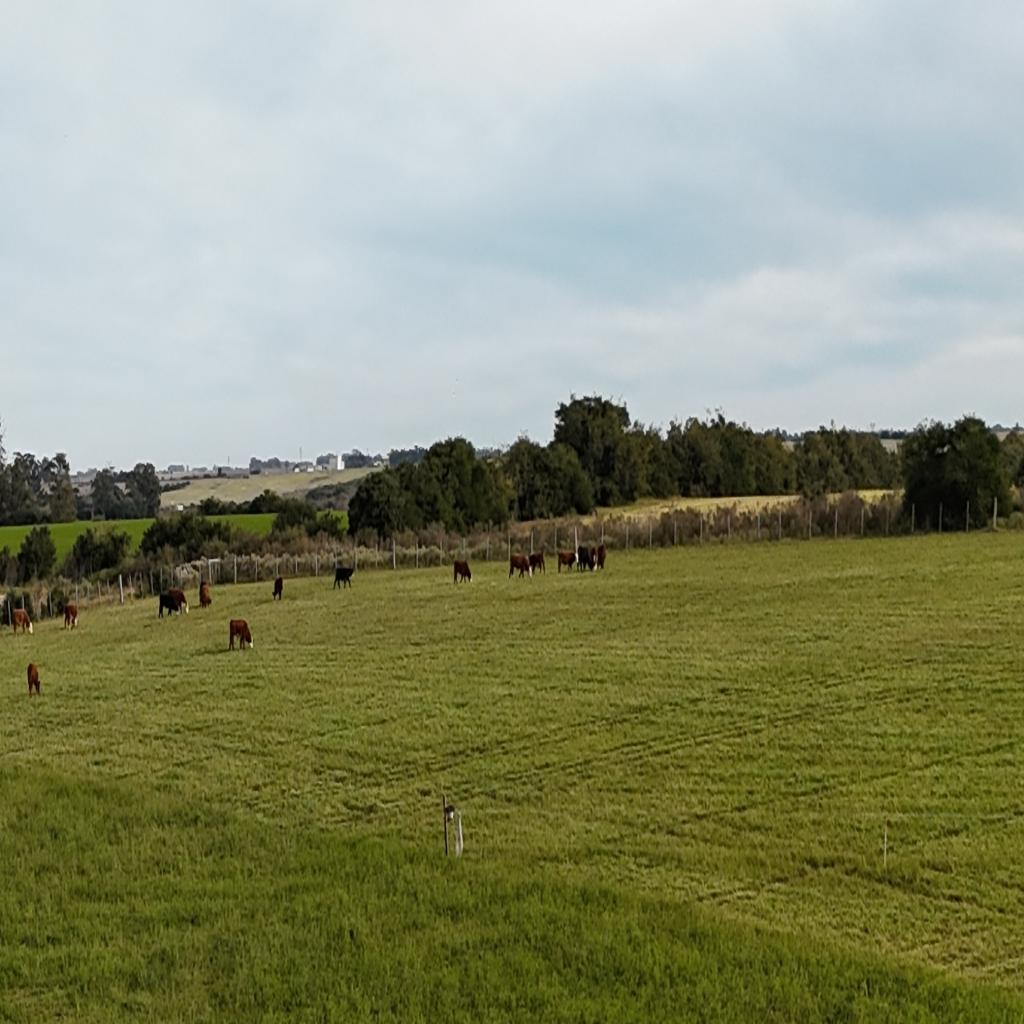cow: (228, 618, 253, 652), (161, 588, 189, 616), (510, 554, 532, 581), (26, 662, 42, 698), (12, 608, 34, 634), (333, 565, 355, 590), (453, 559, 471, 584), (557, 550, 576, 573), (576, 545, 592, 572), (64, 604, 78, 632), (200, 584, 212, 608), (526, 550, 545, 564), (272, 576, 282, 602), (596, 543, 606, 569), (592, 545, 596, 572)
